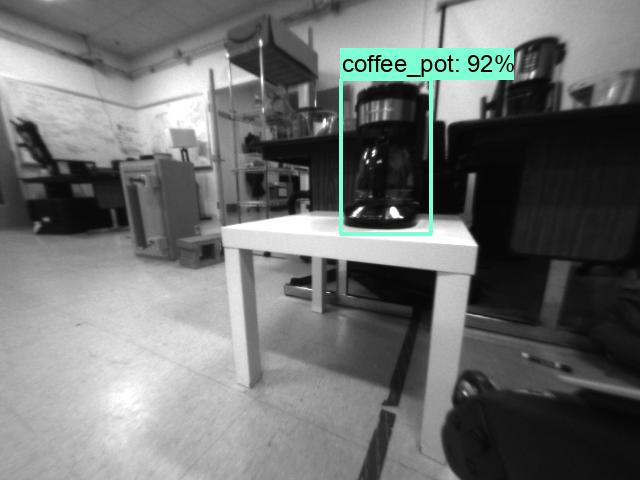coffee_pot: (344, 82, 430, 234)
